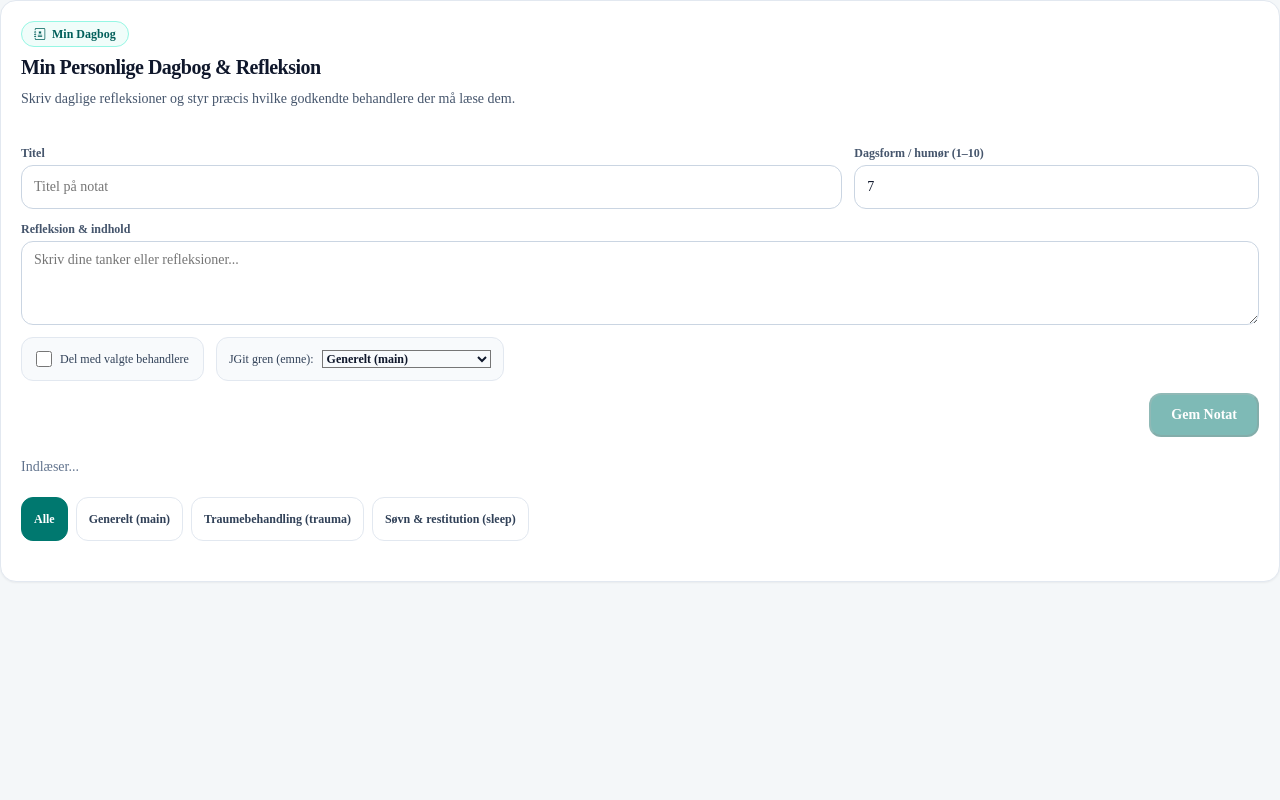
Test: JournalFeature Vertical Slice › JournalFeatureView CRUD + DomainGuard + ProblemDetail › shows empty handshake guidance when client has no active handshakes
The width and height of the screenshot is (1280, 800).
Click the checkbox with test id "input-journal-shared": (44, 359) [36,351,52,367]
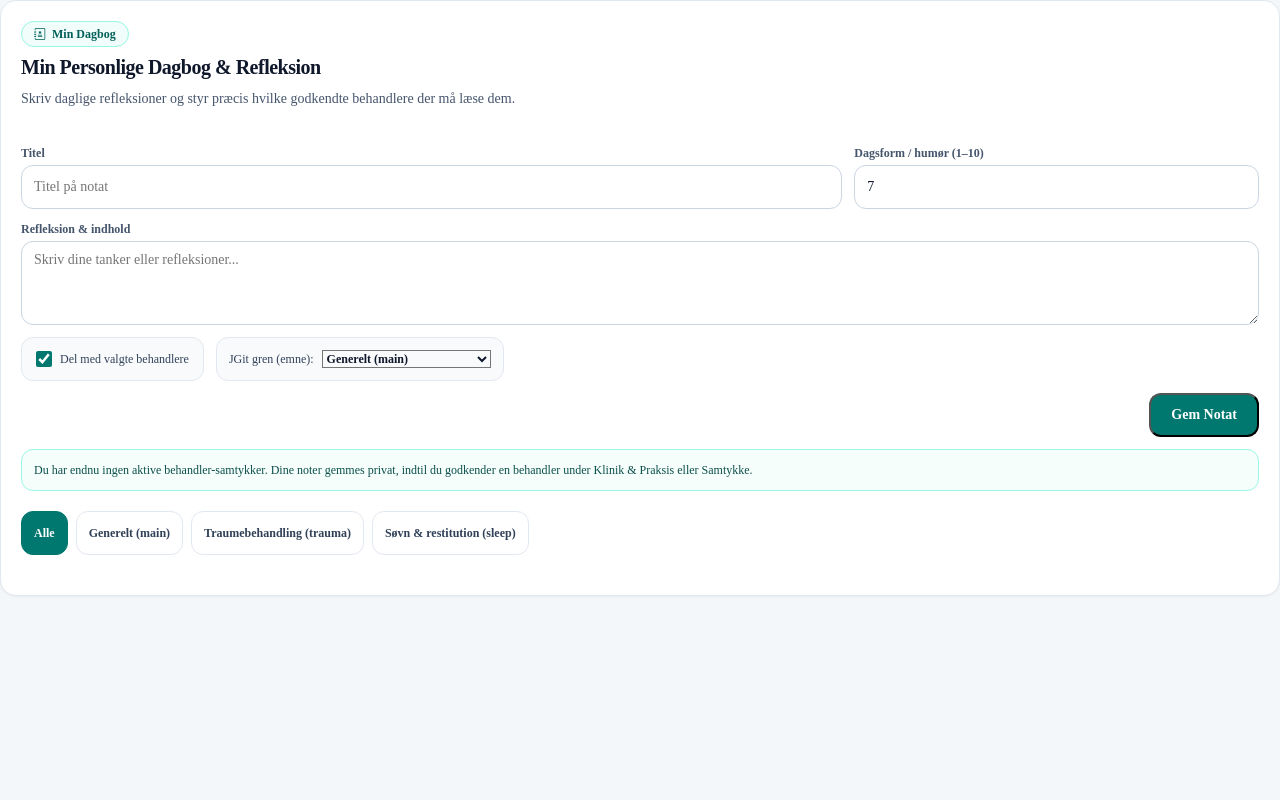
expect the text with test id "no-active-handshakes-tip" is shown: met, box [34,463,753,477]
